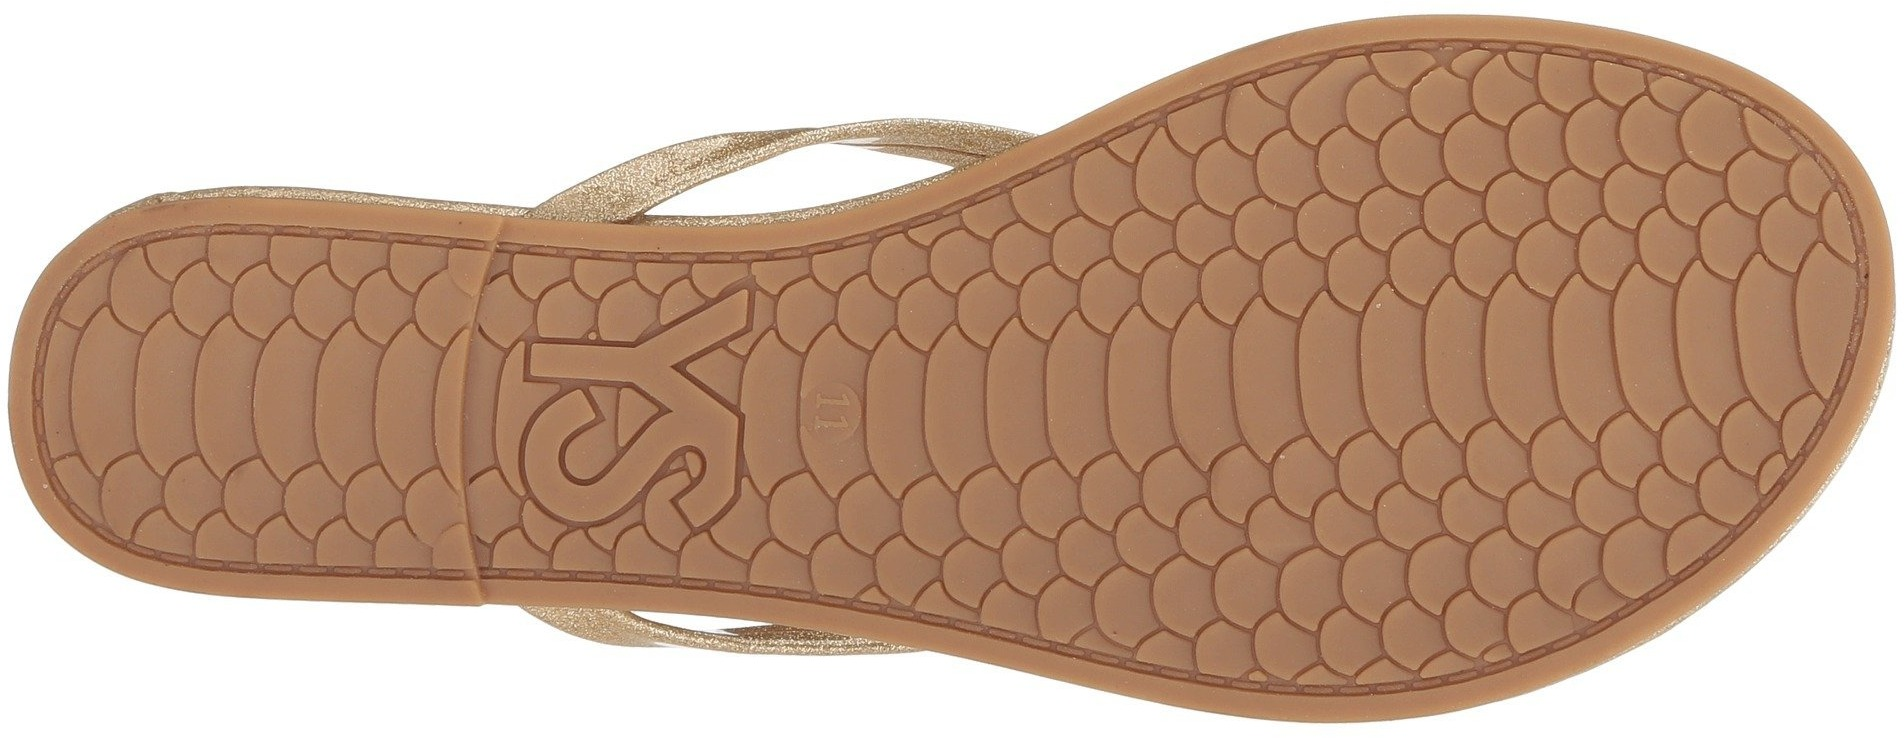circle: (1205, 453, 1421, 655), (1447, 73, 1643, 267), (1248, 110, 1436, 303), (1018, 469, 1197, 655), (1076, 155, 1249, 330), (1651, 134, 1793, 259), (548, 115, 576, 719), (344, 453, 449, 562)
line: (484, 268, 800, 570)
quad: (115, 282, 348, 501), (861, 296, 1073, 509)
text: (484, 268, 800, 570), (805, 385, 858, 438)
